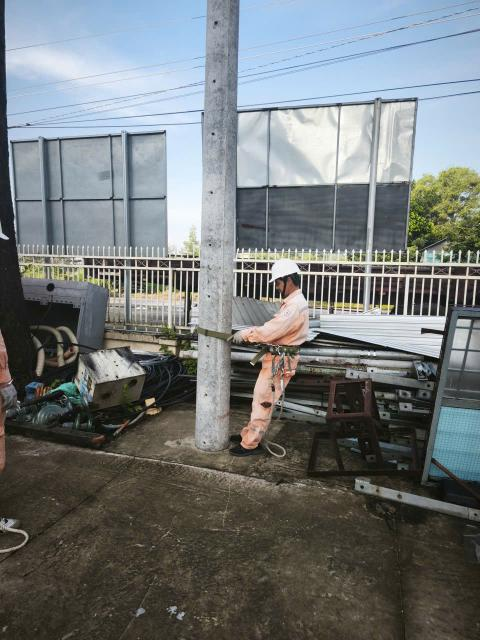gloves: (226, 325, 247, 352)
harness: (246, 331, 308, 362)
helmet: (261, 255, 303, 284)
shoes: (218, 435, 271, 462), (216, 426, 254, 447)
